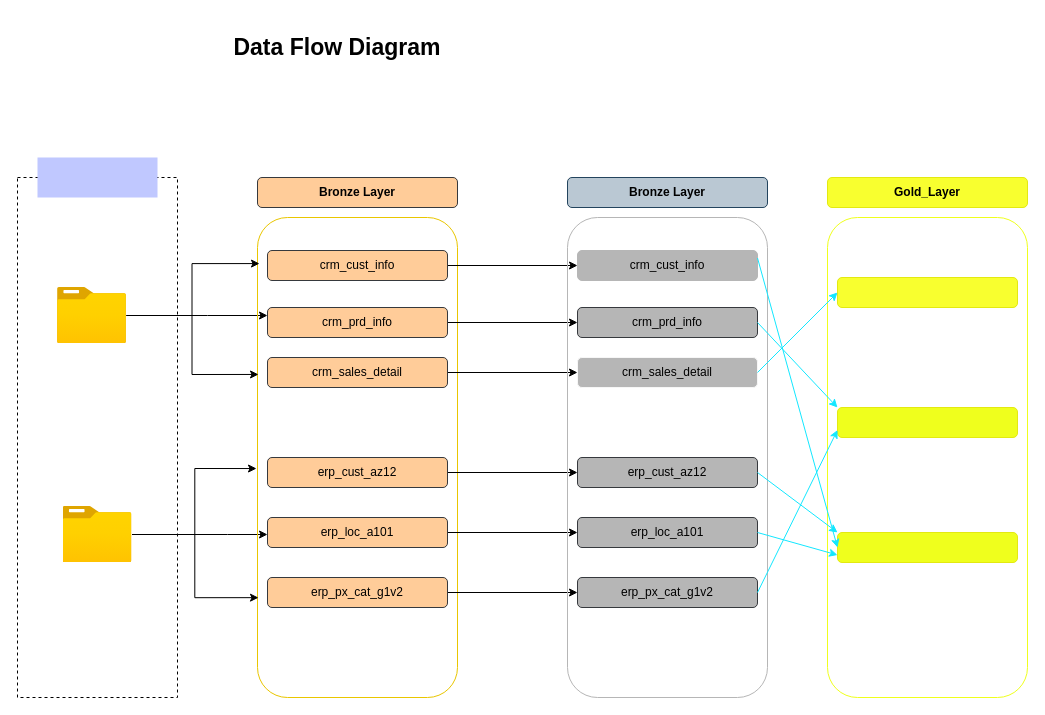
Some shapes in this 1045 by 715 pixel diagram are drawn without their labels. The centre of each missing label's shape, as x and y in pixels:
"CRM" goes at [91,315].
"dim_customer" goes at [927,547].
"dim_products" goes at [927,422].
"ERP" goes at [97,534].
"fact_sales" goes at [927,292].
"Sources" goes at [97,177].
